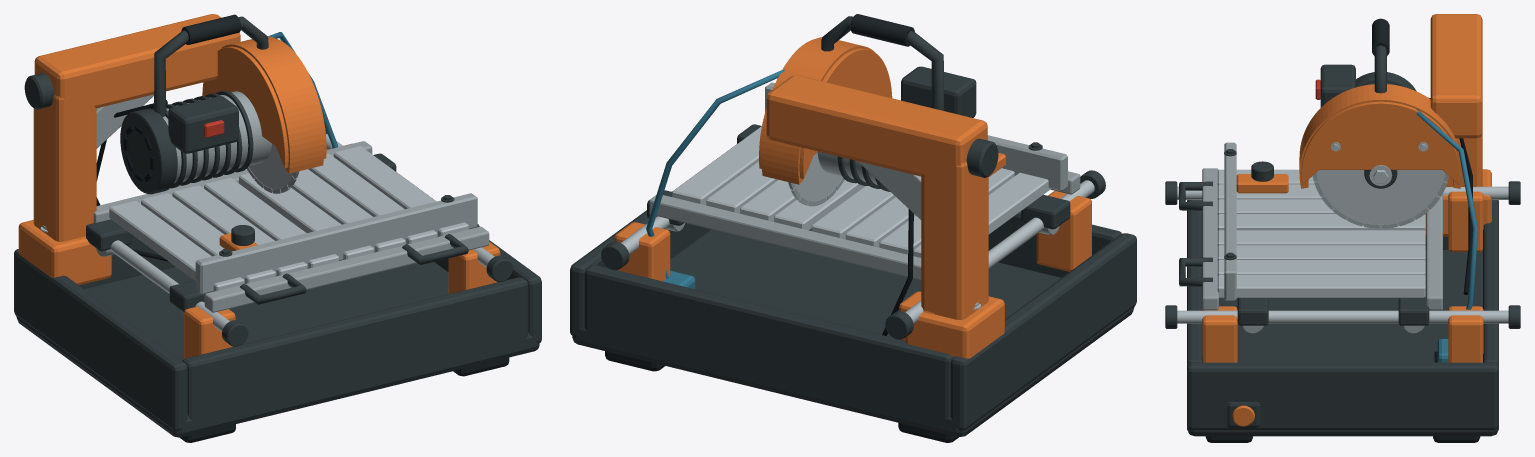
The model's file is city-wet-tile-saw.glb.
The picture shows the model from 3 angles, left to right: view 1: azimuth 30°, elevation 25°; view 2: azimuth 150°, elevation 25°; view 3: azimuth 270°, elevation 25°; orthographic projection. The views are drawn at different scales.
Parts seen in each view (by area): view 1: Assembly | Graphite painted structure, Assembly | Warm industrial orange enamel, Assembly | Brushed galvanized hardware, Assembly | Cast aluminium surface, Assembly | Molded charcoal rubber, Assembly | Matte black recess; view 2: Assembly | Graphite painted structure, Assembly | Warm industrial orange enamel, Assembly | Brushed galvanized hardware, Assembly | Cast aluminium surface, Assembly | Molded charcoal rubber, Assembly | Deep blue equipment enamel, Assembly | Matte black recess; view 3: Assembly | Graphite painted structure, Assembly | Brushed galvanized hardware, Assembly | Warm industrial orange enamel, Assembly | Cast aluminium surface, Assembly | Deep blue equipment enamel, Assembly | Molded charcoal rubber, Assembly | Matte black recess.
Boxes of the visible parts, box(x1,y1,x2,y2) form: Assembly | Graphite painted structure: box(14, 16, 541, 437); Assembly | Warm industrial orange enamel: box(18, 14, 500, 358); Assembly | Brushed galvanized hardware: box(40, 134, 494, 331); Assembly | Cast aluminium surface: box(93, 91, 489, 316); Assembly | Molded charcoal rubber: box(180, 14, 509, 442); Assembly | Matte black recess: box(96, 100, 169, 261); Assembly | Graphite painted structure: box(570, 16, 1136, 436); Assembly | Warm industrial orange enamel: box(615, 37, 1091, 358); Assembly | Brushed galvanized hardware: box(621, 126, 1094, 323); Assembly | Cast aluminium surface: box(649, 82, 1080, 280); Assembly | Molded charcoal rubber: box(605, 14, 958, 442); Assembly | Deep blue equipment enamel: box(646, 69, 785, 289); Assembly | Matte black recess: box(882, 209, 913, 335); Assembly | Graphite painted structure: box(1165, 45, 1520, 436); Assembly | Brushed galvanized hardware: box(1177, 142, 1508, 323); Assembly | Warm industrial orange enamel: box(1202, 14, 1491, 426); Assembly | Cast aluminium surface: box(1202, 142, 1448, 333); Assembly | Deep blue equipment enamel: box(1416, 109, 1477, 362); Assembly | Molded charcoal rubber: box(1205, 18, 1480, 442); Assembly | Matte black recess: box(1428, 97, 1472, 362).
Size of the model in its own units: 0.879 by 0.739 by 0.751.
